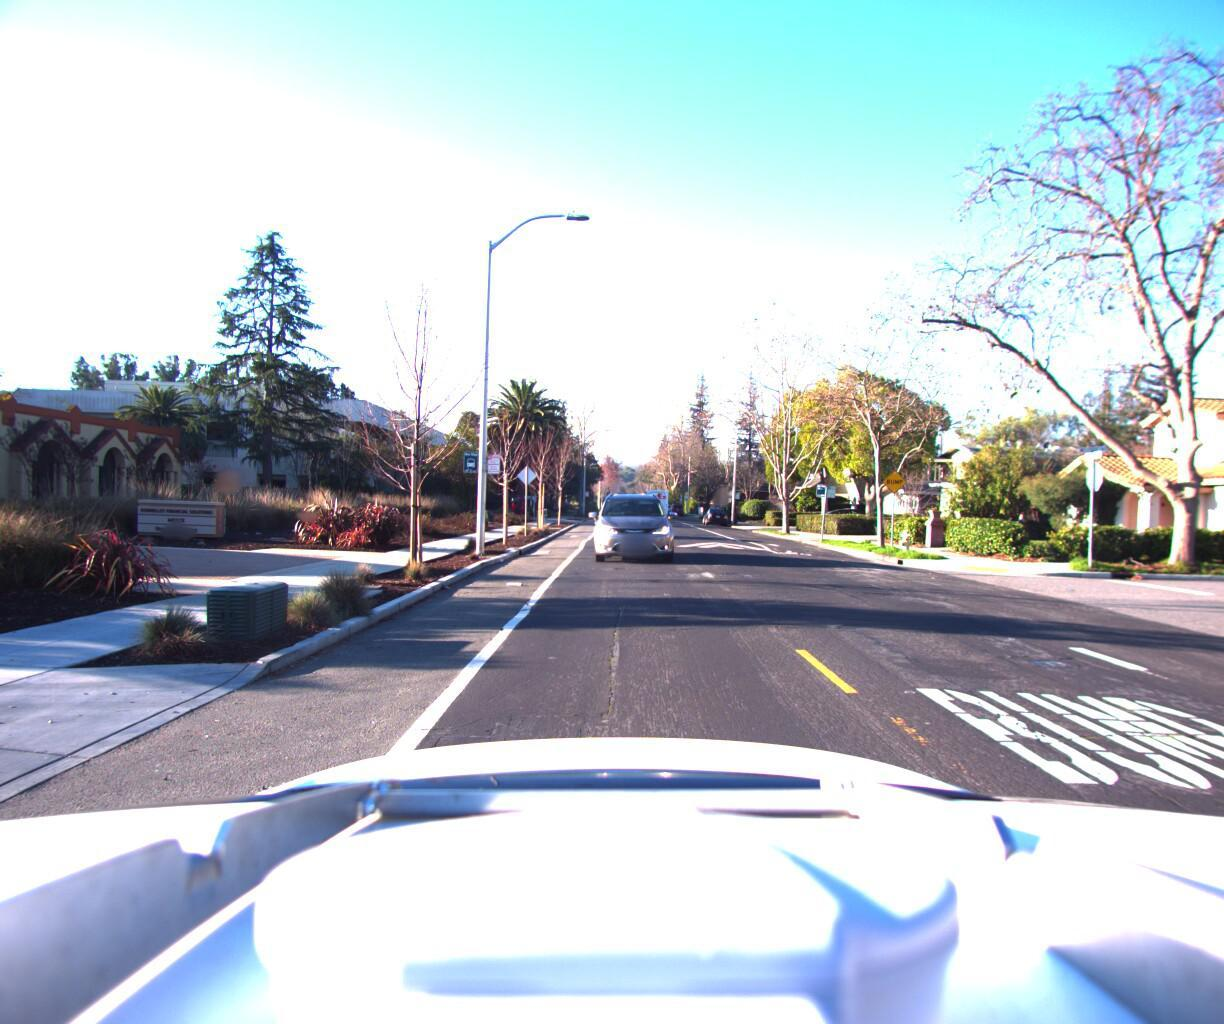car: (589, 479, 679, 565), (697, 503, 729, 523)
truck: (640, 484, 668, 515)
